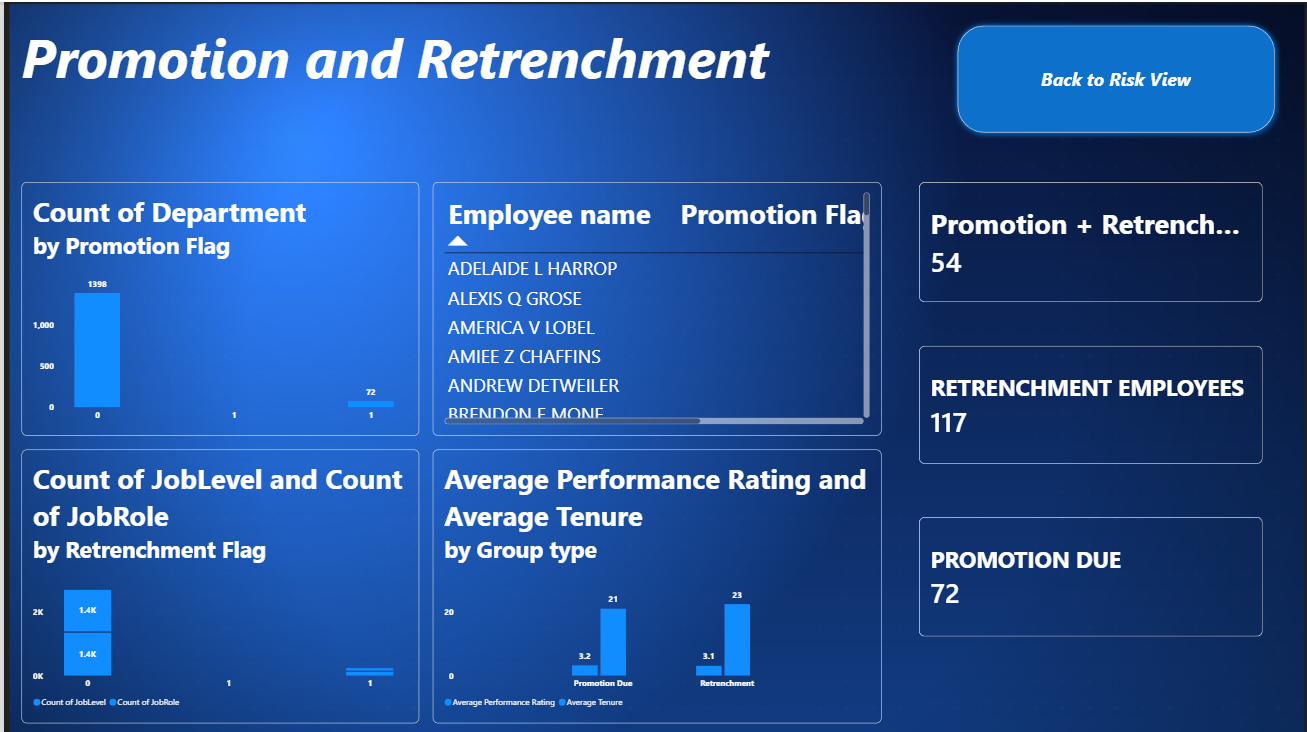

This screenshot's page, from the dashboard's own definition file:
{"tool":"powerbi","page":{"name":"PROMOTION AND RETRENCHMENT","canvas":[1920,1080],"ordinal":4},"visuals":[{"type":"cardVisual","fields":{"Data":["KPICalculations.PROMOTION DUE"]},"box":[1347.2,758.3,506.1,176.7],"z":0},{"type":"cardVisual","fields":{"Data":["KPICalculations.RETRENCHMENT EMPLOYEES"]},"box":[1347.2,506.1,506.1,174.8],"z":1000},{"type":"columnChart","fields":{"Category":["Employees.Promotion Flag","Employees.Retrenchment Flag"],"Y":["CountNonNull(HR.Department)"]},"box":[25.8,265,585.3,373.6],"z":2000},{"type":"columnChart","fields":{"Category":["Employees.Promotion Flag","Employees.Retrenchment Flag"],"Y":["CountNonNull(HR.JobLevel)","CountNonNull(HR.JobRole)"]},"box":[25.8,658.9,585.3,403.1],"z":3000},{"type":"clusteredColumnChart","fields":{"Category":["Employees.Group type"],"Y":["KPICalculations.Average Performance Rating","KPICalculations.Average Tenure"]},"box":[631.3,658.9,660.7,403.1],"z":4000},{"type":"cardVisual","fields":{"Data":["KPICalculations.Promotion + Retrenchment Conflict"]},"box":[1347.2,265,506.7,177.3],"z":5000},{"type":"tableEx","fields":{"Values":["Employees.Employee name","Employees.Promotion Flag","Employees.Retrenchment Flag"]},"box":[631.3,265,660.7,373.6],"z":6000},{"type":"actionButton","box":[1395.2,25.3,485,175.5],"z":7000},{"type":"textbox","box":[25.8,25.8,1266.3,174.8],"z":8001}]}

Visuals, with their boxes in screenshot pixels (x1, y1, x2, y2), scaled from the page's 1920x1080 canvas onto the 1307x732 screenshot:
cardVisual - KPICalculations.PROMOTION DUE: left=917, top=514, right=1262, bottom=634
cardVisual - KPICalculations.RETRENCHMENT EMPLOYEES: left=917, top=343, right=1262, bottom=461
columnChart - Employees.Promotion Flag x Employees.Retrenchment Flag: left=18, top=180, right=416, bottom=433
columnChart - Employees.Promotion Flag x Employees.Retrenchment Flag: left=18, top=447, right=416, bottom=720
clusteredColumnChart - Employees.Group type x KPICalculations.Average Performance Rating: left=430, top=447, right=880, bottom=720
cardVisual - KPICalculations.Promotion + Retrenchment Conflict: left=917, top=180, right=1262, bottom=300
tableEx - Employees.Employee name x Employees.Promotion Flag: left=430, top=180, right=880, bottom=433
actionButton: left=950, top=17, right=1280, bottom=136
textbox: left=18, top=17, right=880, bottom=136
